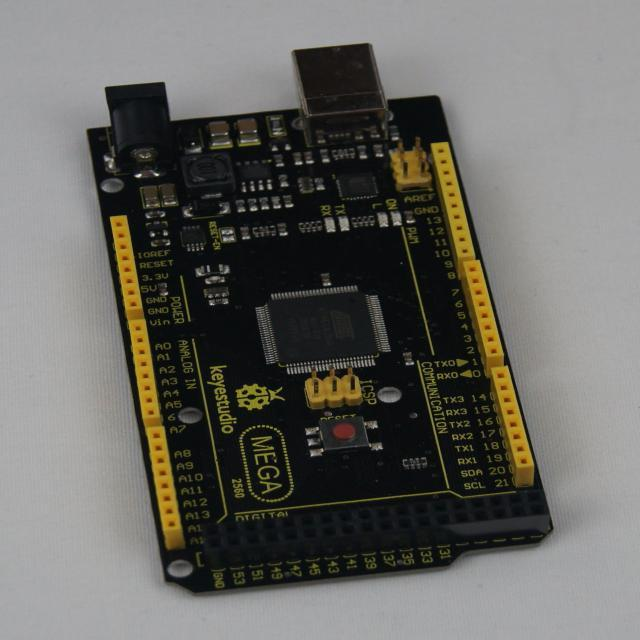Arduino Mega 2560 -Yellow-: (88, 45, 552, 593), (139, 123, 150, 131)
